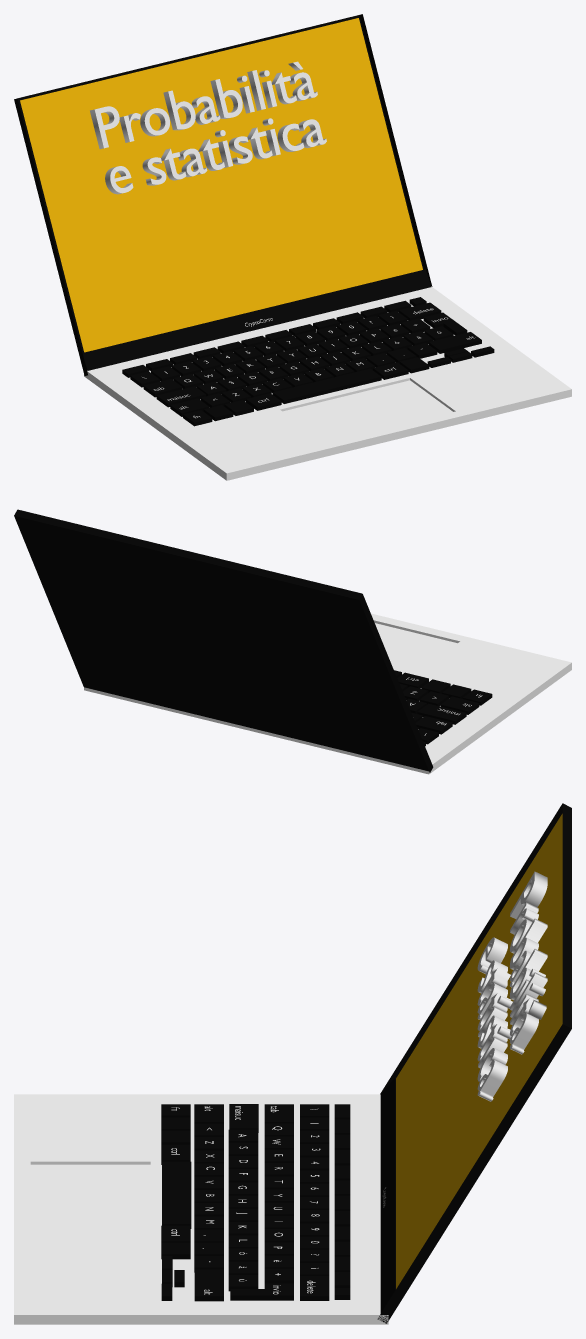
Rendered from probabilita.glb.
3 views of the same model, one above another, from view 1: azimuth 30°, elevation 25°; view 2: azimuth 150°, elevation 25°; view 3: azimuth 270°, elevation 25° (orthographic). The views are drawn at different scales.
Visible parts, largest first — view 1: Cube.073, Cube, Cube.074, Text, Text.001, Cube.001, Cube.072, Cube.123; view 2: Cube.001, Cube, Cube.065, Cube.064, Cube.066, Cube.071; view 3: Cube, Cube.073, Cube.001, Text, Text.001, Cube.074, Cube.072, Cube.123, Cube.065, Cube.027.
Boxes of the visible parts, bbox=[...] form: Cube.073: bbox=[20, 18, 422, 352]; Cube: bbox=[84, 286, 571, 480]; Cube.074: bbox=[82, 269, 431, 370]; Text: bbox=[90, 61, 317, 149]; Text.001: bbox=[105, 118, 326, 194]; Cube.001: bbox=[14, 14, 432, 375]; Cube.072: bbox=[272, 368, 381, 403]; Cube.123: bbox=[428, 332, 481, 353]; Cube.001: bbox=[14, 509, 433, 772]; Cube: bbox=[84, 613, 571, 774]; Cube.065: bbox=[417, 703, 466, 724]; Cube.064: bbox=[440, 696, 479, 714]; Cube.066: bbox=[415, 716, 452, 734]; Cube.071: bbox=[397, 672, 428, 688]; Cube: bbox=[14, 1094, 388, 1324]; Cube.073: bbox=[396, 813, 562, 1288]; Cube.001: bbox=[377, 803, 571, 1323]; Text: bbox=[509, 871, 547, 1054]; Text.001: bbox=[477, 937, 512, 1101]; Cube.074: bbox=[380, 1077, 396, 1313]; Cube.072: bbox=[162, 1161, 191, 1228]; Cube.123: bbox=[194, 1269, 223, 1301]; Cube.065: bbox=[229, 1104, 258, 1132]; Cube.027: bbox=[300, 1276, 329, 1300].
Size of the model in its own units: 6.79 by 4.31 by 7.25.
